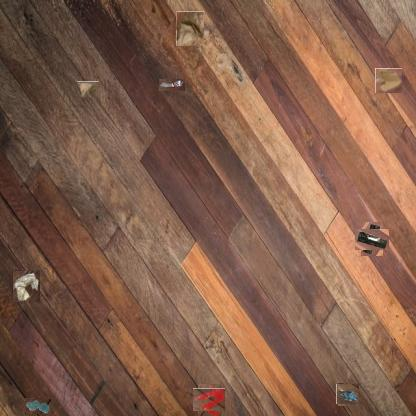dirty: (176, 11, 204, 46), (12, 271, 40, 302), (358, 225, 386, 253), (376, 67, 401, 94), (337, 384, 359, 405), (78, 81, 100, 98), (159, 79, 185, 91)
liquid: (196, 386, 223, 414), (25, 398, 51, 414)
